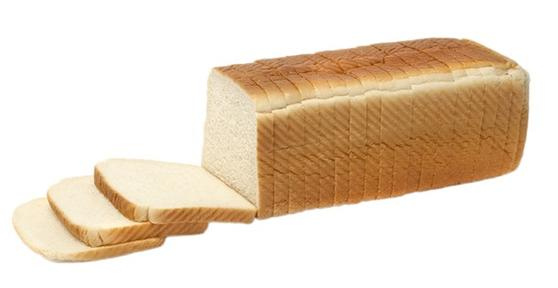white_bread: (254, 47, 532, 205)
